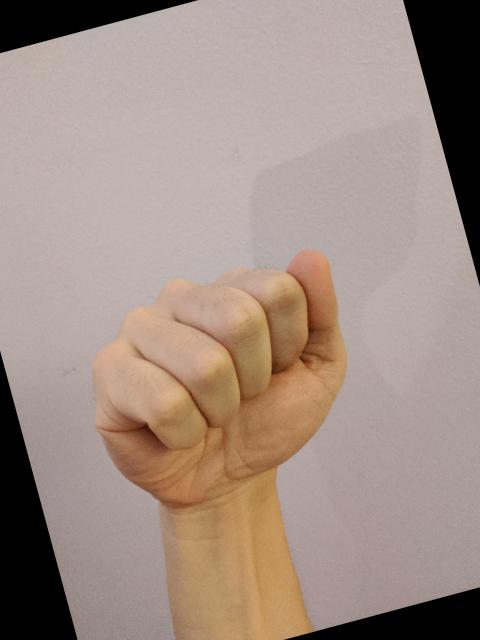A: (52, 228, 392, 536)
